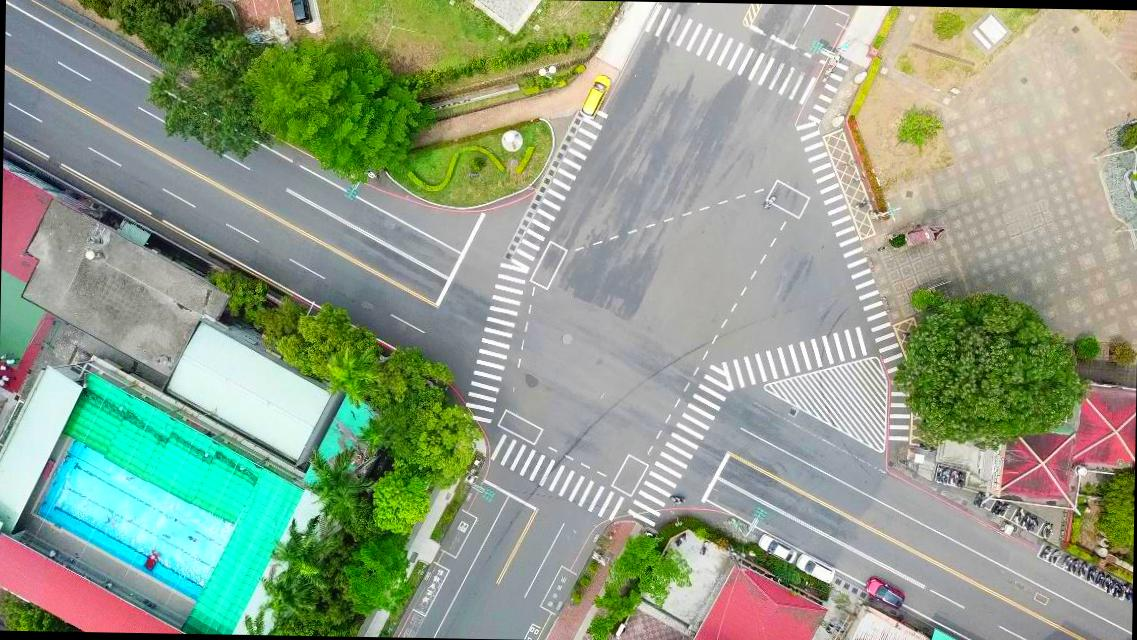vehicle: (578, 74, 612, 120), (864, 577, 906, 610), (795, 552, 837, 584), (758, 532, 798, 564), (287, 0, 314, 26)
